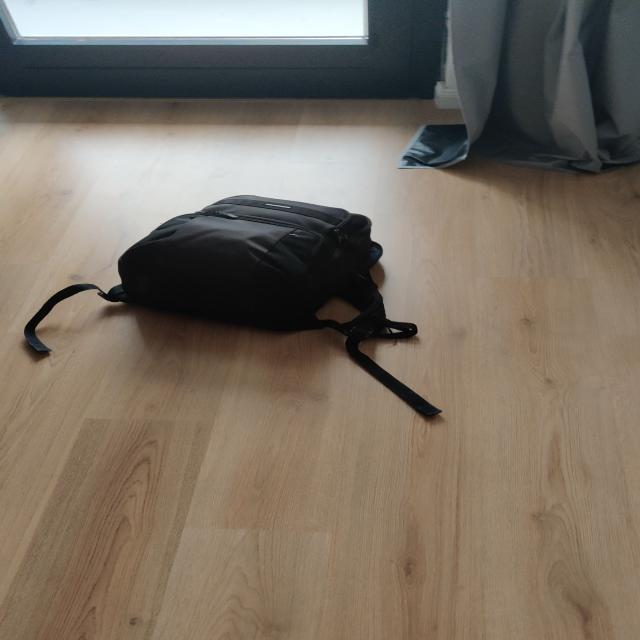backpack: (98, 191, 394, 336)
